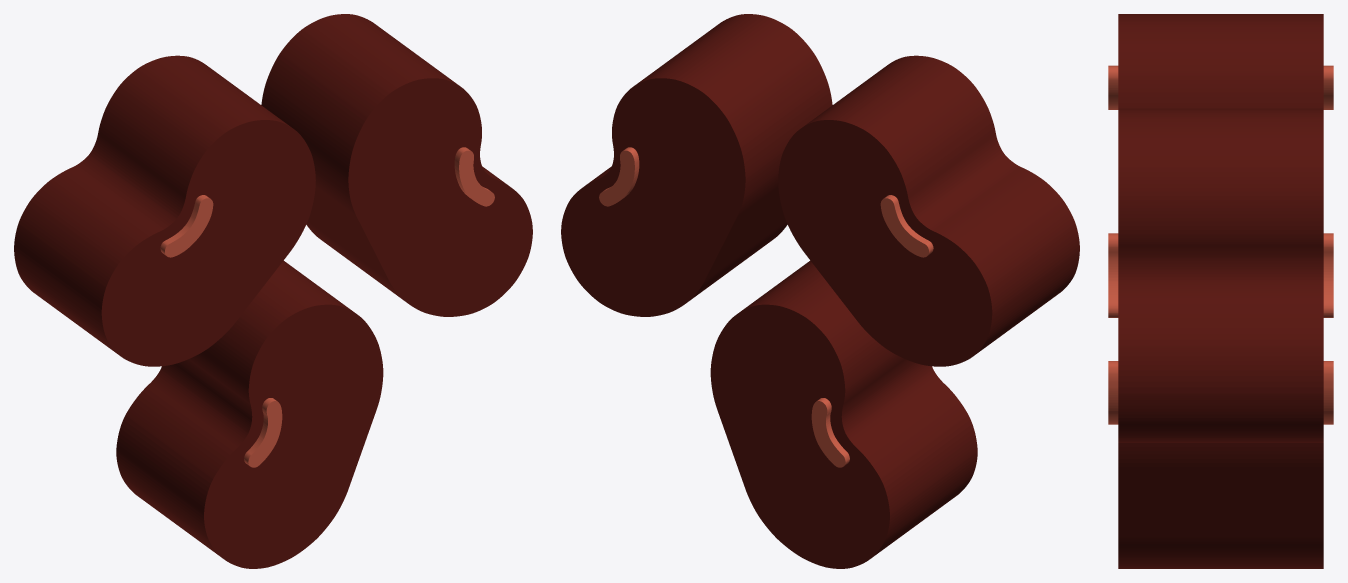
The model's file is U+1FAD8.obj.
3 views of the same model, side by side, from view 1: azimuth 30°, elevation 25°; view 2: azimuth 150°, elevation 25°; view 3: azimuth 270°, elevation 25° (orthographic). The views are drawn at different scales.
Visible parts, largest first — view 1: U+1FAD8_layer00_obj00, U+1FAD8_layer01_obj00; view 2: U+1FAD8_layer00_obj00, U+1FAD8_layer01_obj00; view 3: U+1FAD8_layer00_obj00, U+1FAD8_layer01_obj00.
Boxes of the visible parts, bbox=[...] form: U+1FAD8_layer00_obj00: bbox=[14, 14, 532, 568]; U+1FAD8_layer01_obj00: bbox=[160, 147, 494, 467]; U+1FAD8_layer00_obj00: bbox=[561, 14, 1079, 568]; U+1FAD8_layer01_obj00: bbox=[599, 147, 933, 467]; U+1FAD8_layer00_obj00: bbox=[1118, 14, 1323, 568]; U+1FAD8_layer01_obj00: bbox=[1108, 65, 1333, 424].
Size of the model in its own units: 0.5678 by 0.5674 by 0.22.
